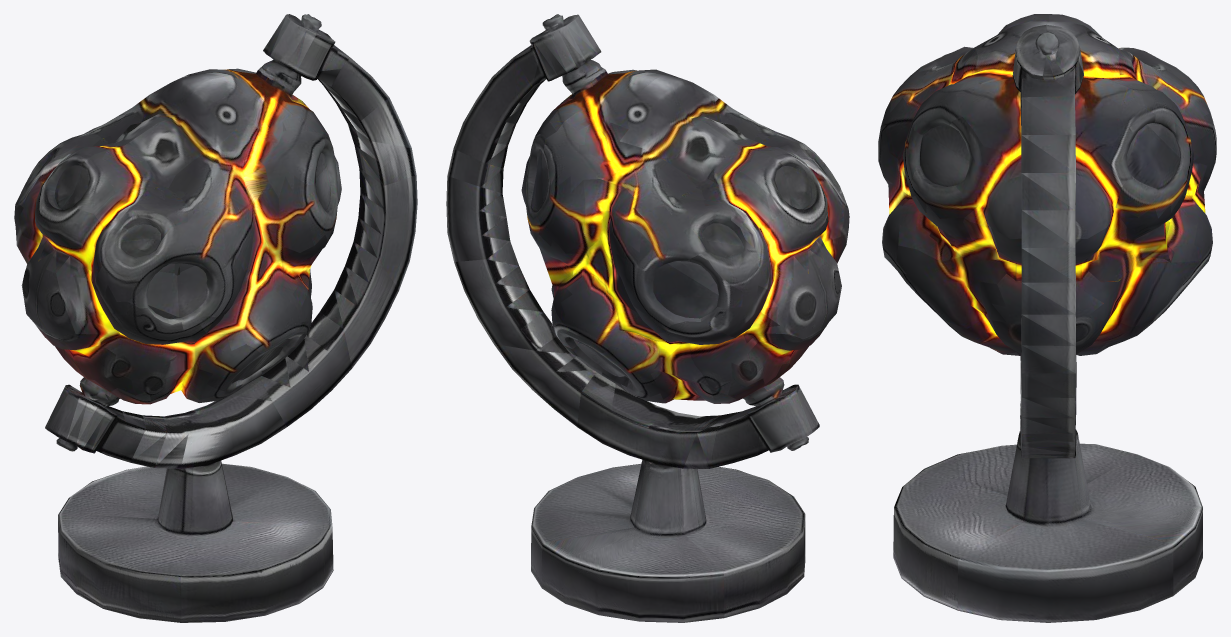
Rendered from meteorite.glb.
3 views of the same model, side by side, from view 1: azimuth 30°, elevation 25°; view 2: azimuth 150°, elevation 25°; view 3: azimuth 270°, elevation 25° (orthographic). The views are drawn at different scales.
Size of the model in its own units: 0.7402 by 1 by 0.5254.
1 material, 1 textured.
